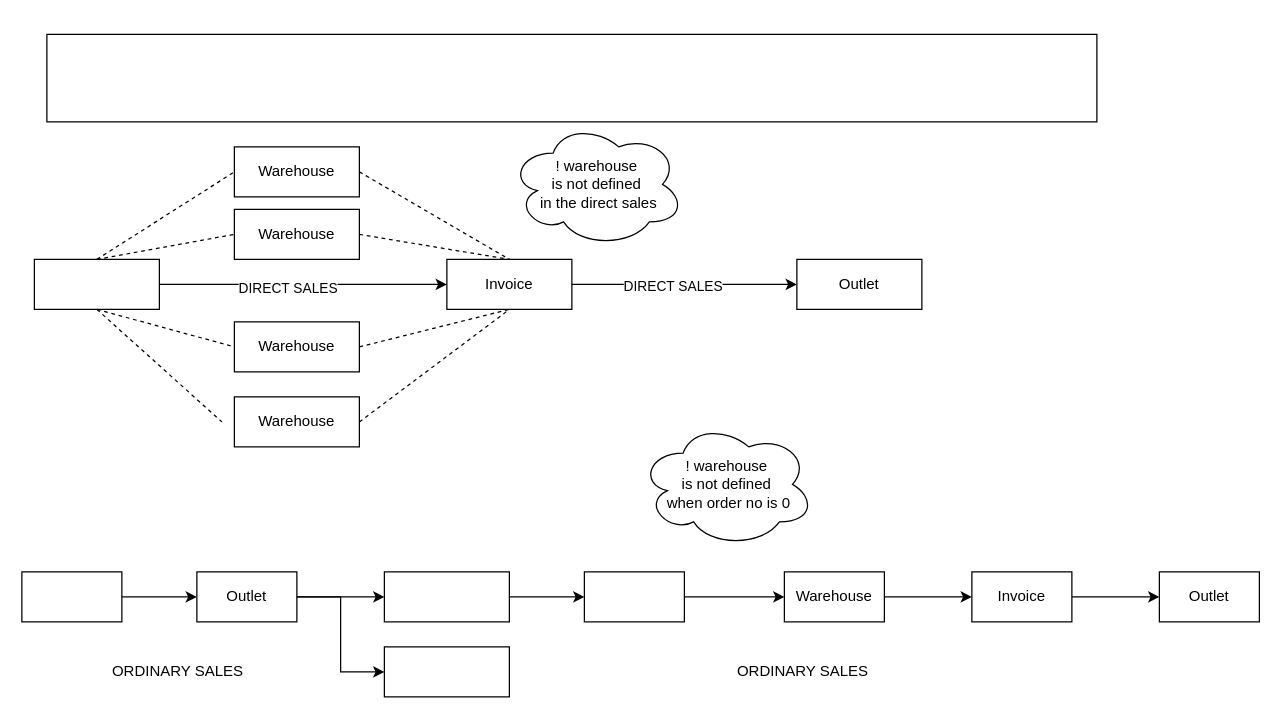
The diagram is 1281 pixels wide and 719 high, and some of its shapes have lost their labels. The shapes that lost their labels are listed below. From the top down, each one's centre as x and y in pixels, then its label:
At [571,77]: "ACME Corp. Distribution of products in the context of direct and ordinary sales.".
At [96,283]: "Customer".
At [71,596]: "Merchandizer".
At [446,596]: "OL_card".
At [633,596]: "Order".
At [446,671]: "Ol_distibution record".
